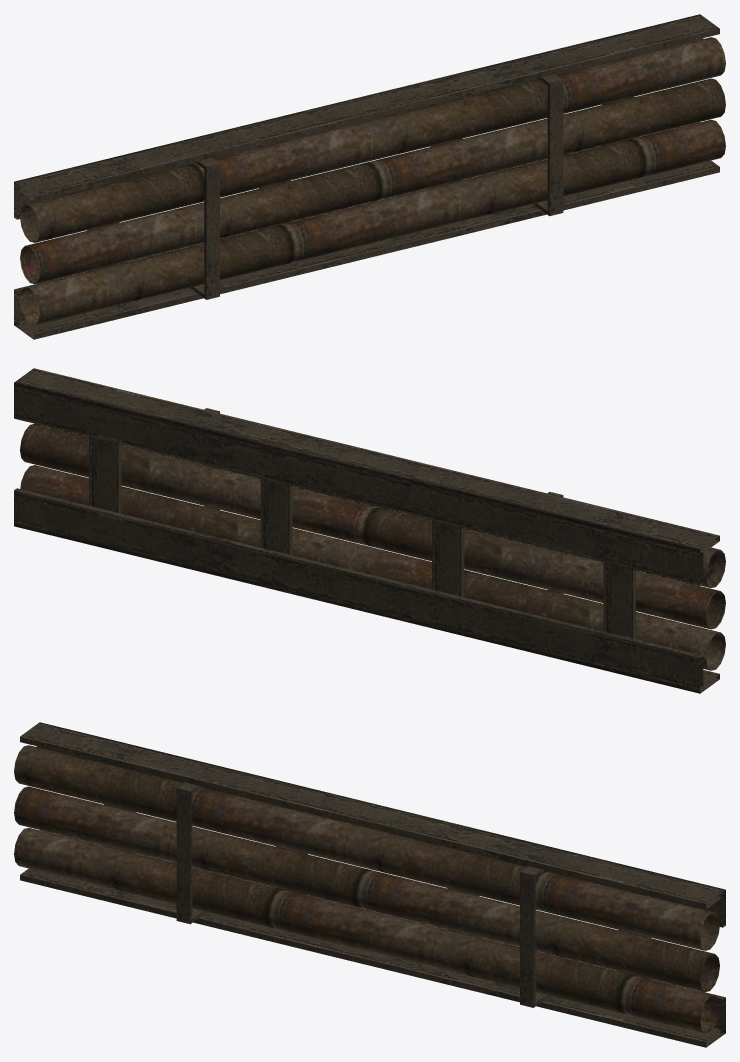
The model's file is pipes_hr_5_middle.obj.
3 views of the same model, one above another, from view 1: azimuth 30°, elevation 25°; view 2: azimuth 150°, elevation 25°; view 3: azimuth 330°, elevation 25° (orthographic).
Visible parts, largest first — view 1: pipes_hr_5_middle; view 2: pipes_hr_5_middle; view 3: pipes_hr_5_middle.
Boxes of the visible parts, bbox=[...] form: pipes_hr_5_middle: bbox=[14, 14, 725, 339]; pipes_hr_5_middle: bbox=[14, 368, 725, 693]; pipes_hr_5_middle: bbox=[14, 722, 725, 1047].
Size of the model in its own units: 4 by 0.8 by 0.28.
